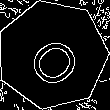O_NE: (19, 22, 86, 87)
